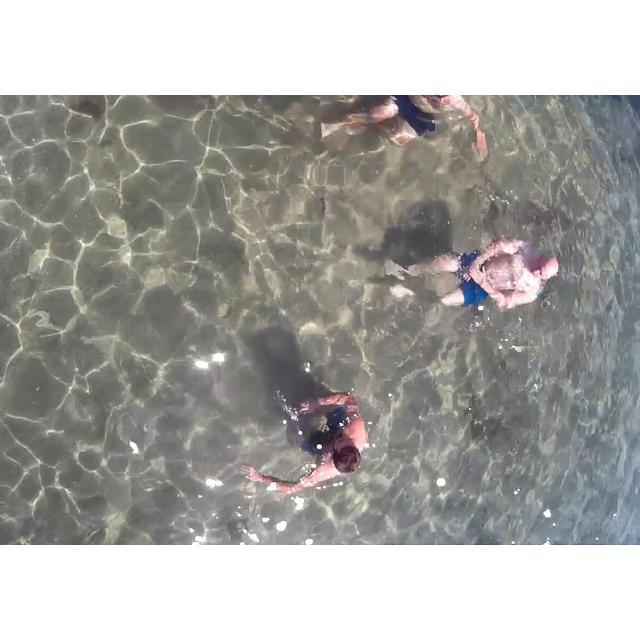human: (393, 220, 562, 325), (244, 372, 369, 502), (329, 95, 486, 171)
